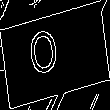O_S: (38, 26, 72, 84)
